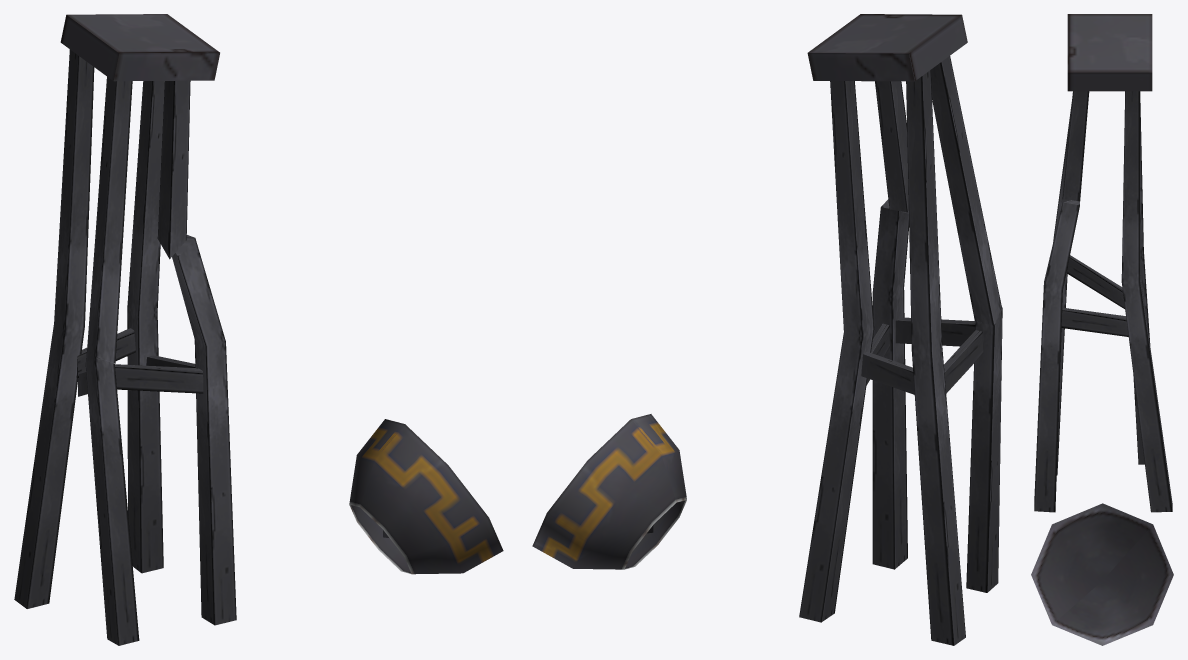
File: 2_SWJ_PoHuoPen_01.FBX
3 views of the same model, side by side, from view 1: azimuth 30°, elevation 25°; view 2: azimuth 150°, elevation 25°; view 3: azimuth 270°, elevation 25° (orthographic). The views are drawn at different scales.
Parts seen in each view (by area): view 1: 2_SWJ_PoHuoPen_02, 2_SWJ_PoHuoPen_03, 2_SWJ_PoHuoPen_01, 2_SWJ_PoHuoPen_05, 2_SWJ_PoHuoPen_04, 2_SWJ_PoHuoPen_06; view 2: 2_SWJ_PoHuoPen_02, 2_SWJ_PoHuoPen_03, 2_SWJ_PoHuoPen_01, 2_SWJ_PoHuoPen_05, 2_SWJ_PoHuoPen_04, 2_SWJ_PoHuoPen_06; view 3: 2_SWJ_PoHuoPen_02, 2_SWJ_PoHuoPen_01, 2_SWJ_PoHuoPen_05, 2_SWJ_PoHuoPen_06, 2_SWJ_PoHuoPen_04, 2_SWJ_PoHuoPen_03.
Part boxes in pixels (box(x1,y1,x2,y2)): 2_SWJ_PoHuoPen_02: box(60, 14, 219, 573); 2_SWJ_PoHuoPen_03: box(14, 49, 94, 608); 2_SWJ_PoHuoPen_01: box(349, 419, 503, 574); 2_SWJ_PoHuoPen_05: box(115, 235, 236, 625); 2_SWJ_PoHuoPen_04: box(78, 357, 139, 645); 2_SWJ_PoHuoPen_06: box(157, 80, 190, 259); 2_SWJ_PoHuoPen_02: box(799, 14, 1001, 622); 2_SWJ_PoHuoPen_03: box(906, 70, 965, 645); 2_SWJ_PoHuoPen_01: box(532, 414, 686, 569); 2_SWJ_PoHuoPen_05: box(872, 199, 975, 569); 2_SWJ_PoHuoPen_04: box(944, 307, 1002, 592); 2_SWJ_PoHuoPen_06: box(875, 81, 908, 213); 2_SWJ_PoHuoPen_02: box(1053, 14, 1172, 512); 2_SWJ_PoHuoPen_01: box(1031, 503, 1173, 645); 2_SWJ_PoHuoPen_05: box(1034, 200, 1079, 512); 2_SWJ_PoHuoPen_06: box(1061, 91, 1089, 203); 2_SWJ_PoHuoPen_04: box(1056, 255, 1124, 475); 2_SWJ_PoHuoPen_03: box(1133, 91, 1150, 464).
Size of the model in its own units: 304 by 411 by 108.
Materials: 1 (1 with a texture image).
